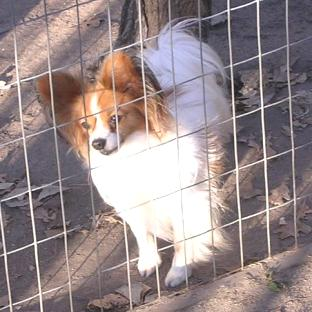Animal: (37, 19, 233, 286)
